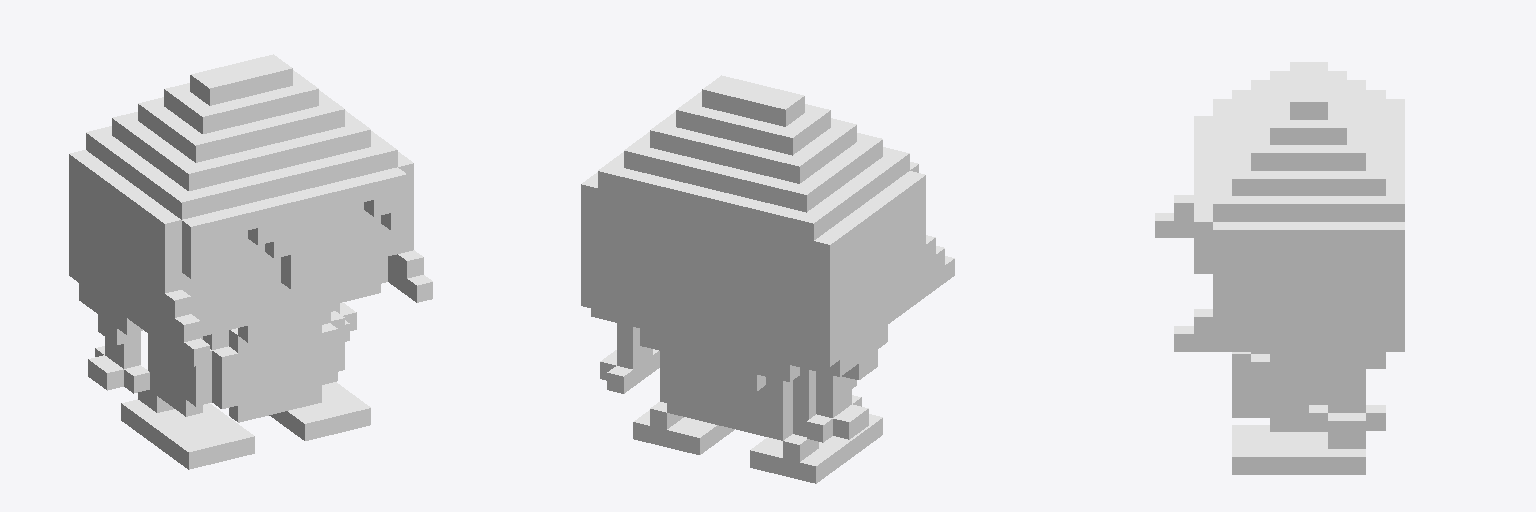
The model's file is Knight.vox.obj.
3 views of the same model, side by side, from view 1: azimuth 30°, elevation 25°; view 2: azimuth 150°, elevation 25°; view 3: azimuth 270°, elevation 25° (orthographic).
Visible parts, largest first — view 1: object 1; view 2: object 1; view 3: object 1.
Boxes of the visible parts, x1=… form: object 1: x1=69, y1=54, x2=432, y2=469; object 1: x1=581, y1=75, x2=954, y2=483; object 1: x1=1155, y1=62, x2=1404, y2=474.
Size of the model in its own units: 1.5 by 2 by 1.3.